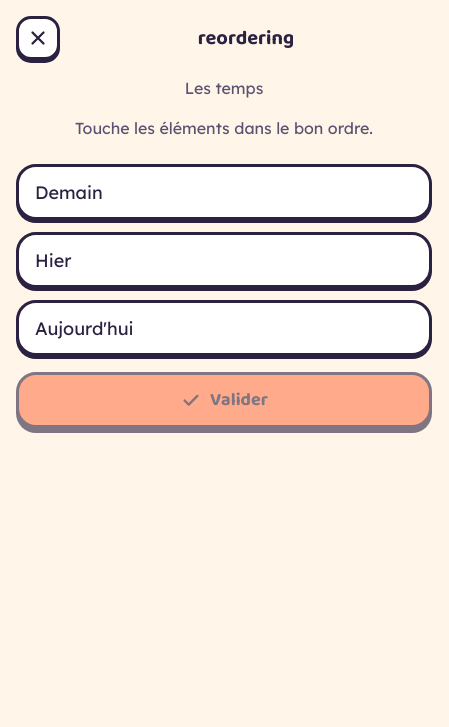
Test case: GameScreen, reordering › « Valider » waits for every element to be placed, then sends the order
What coordinates should you click on to do the following:
click the button "Aujourd'hui"
I would click on:
 (84, 328)
Its box is [16,300,432,356].
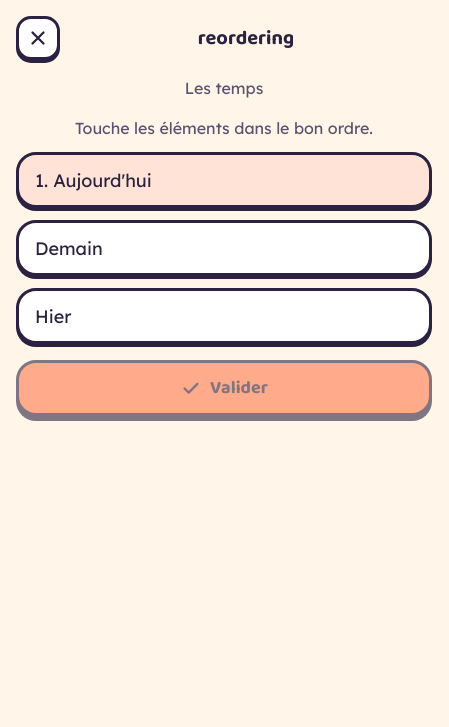
What coordinates should you click on to do the following:
click the button "Hier"
I would click on:
 (53, 316)
Its box is [16,288,432,344].
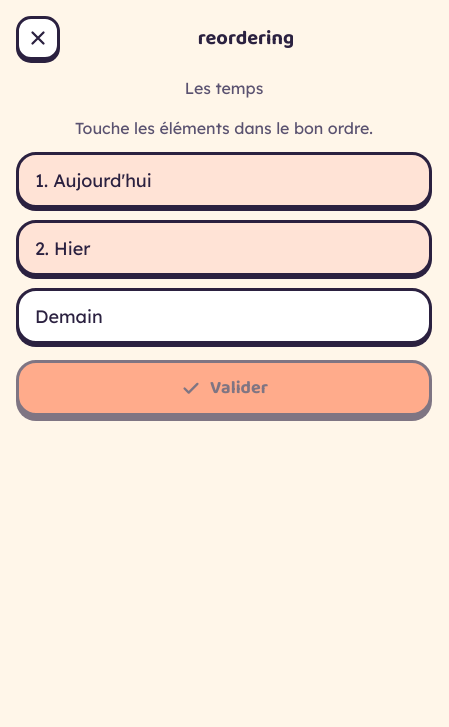
Expected: the button "Valider" is disabled, [16,360,432,416]
What coordinates should you click on to do the following:
click the button "Demain"
I would click on:
 (69, 316)
Its box is [16,288,432,344].
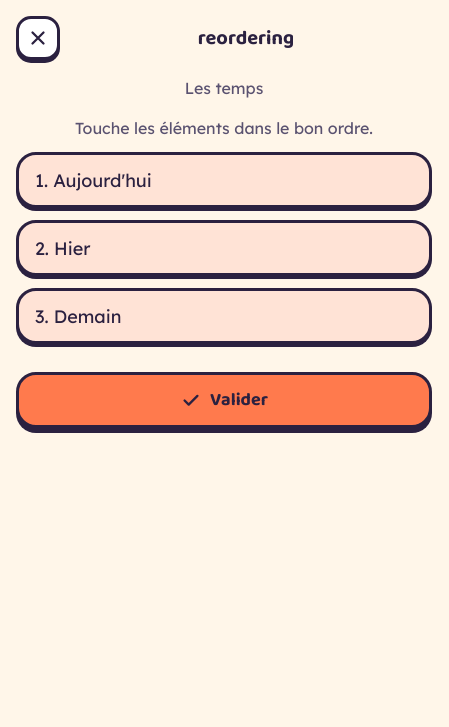
What coordinates should you click on to do the following:
click the button "Valider"
I would click on:
 (224, 400)
Its box is [16,372,432,428].
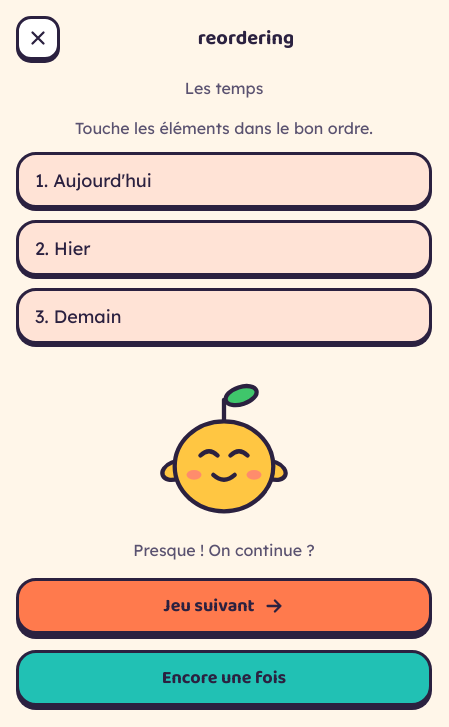
Expected: the text "Presque ! On continue ?" is shown, [133,538,315,562]
